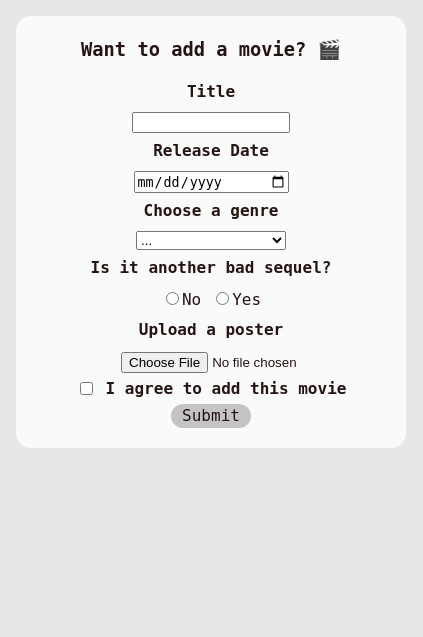
Form › validate formElements
This screenshot has width=423, height=637.
Submit the form
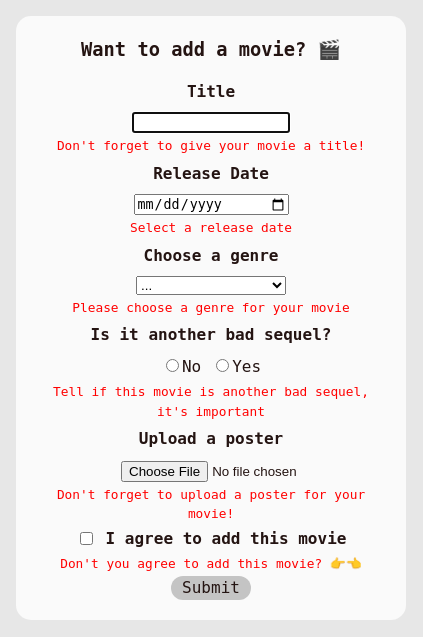
Now the text "Don't forget to give your movie a title!" is shown, box [36,136,386,156]
Now the text "Select a release date" is shown, box [130,220,292,235]
Now the text "Please choose a genre for your movie" is shown, box [72,300,350,315]
Type "test" into the field labelled "Title" at (211, 123), box [132,112,290,133]
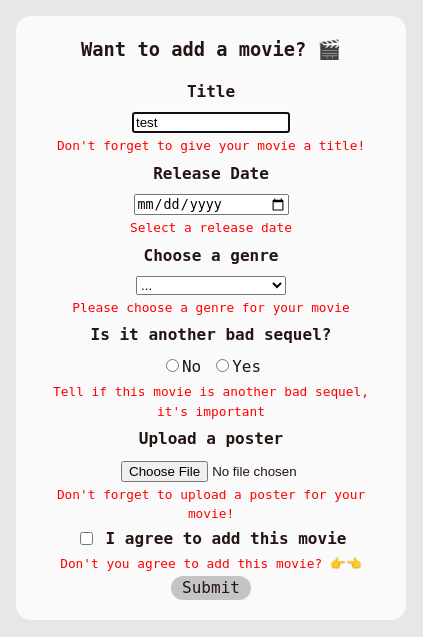
Submit the form
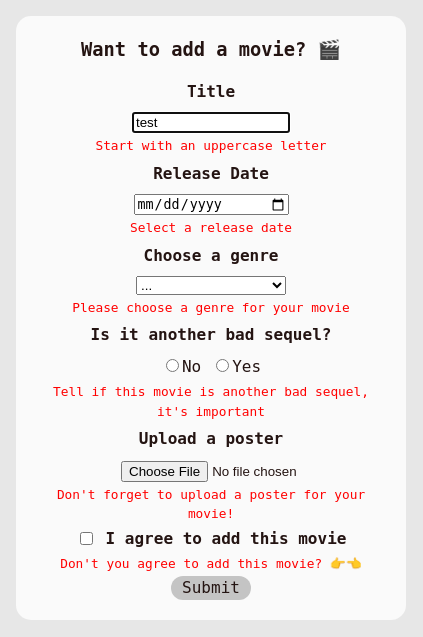
Now the text "Start with an uppercase letter" is shown, box [95,138,326,154]
Type "2100-10-10" into the date field labelled "Release Date" at (211, 204), box [134,194,288,215]
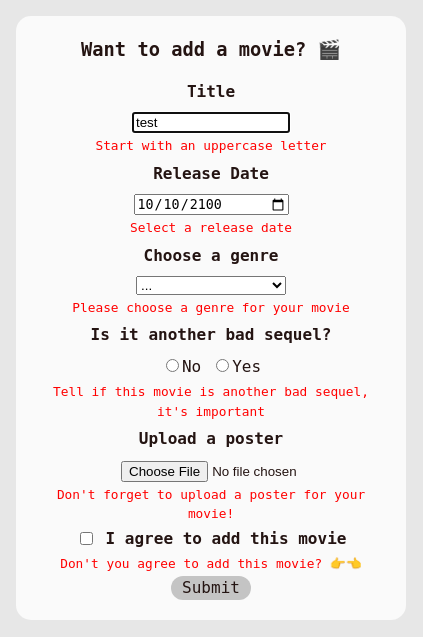
Submit the form
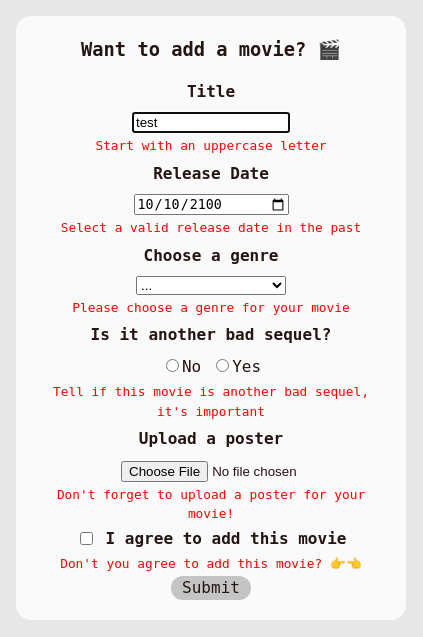
Now the text "Select a valid release date in the past" is shown, box [36,218,386,238]
